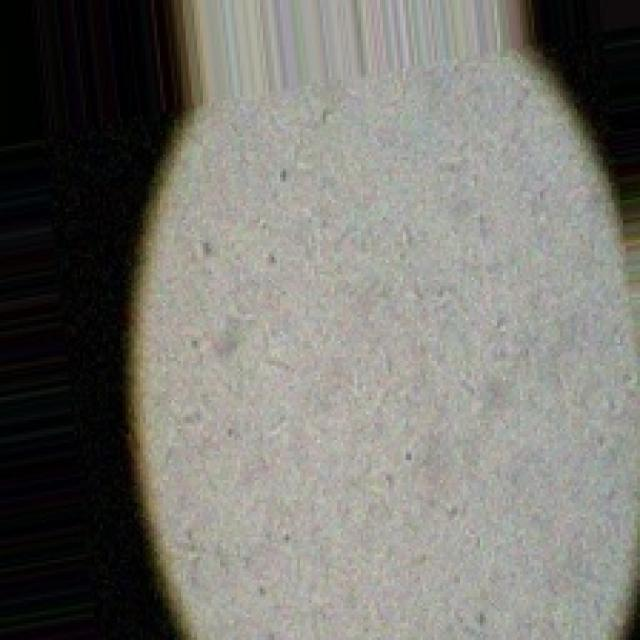Rod_bacteria: (120, 46, 637, 637)
